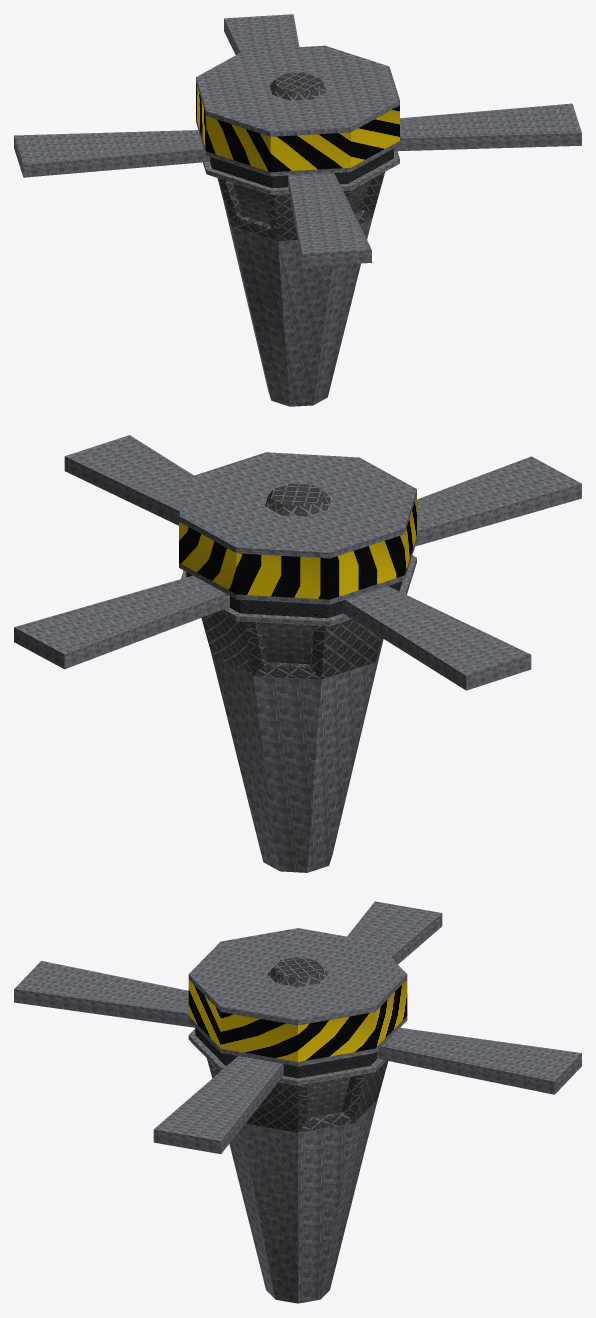
File: FanMedium.fbx
The picture shows the model from 3 angles, top to bottom: view 1: azimuth 30°, elevation 25°; view 2: azimuth 150°, elevation 25°; view 3: azimuth 270°, elevation 25°; orthographic projection. The views are drawn at different scales.
Parts seen in each view (by area): view 1: MediumFan, Blade_2.010, Blade.008; view 2: MediumFan, Blade.008, Blade_2.010; view 3: MediumFan, Blade.008, Blade_2.010.
Part boxes in pixels (<box>): MediumFan: <box>196,45,399,406</box>; Blade_2.010: <box>14,103,581,177</box>; Blade.008: <box>224,14,371,266</box>; MediumFan: <box>179,452,416,872</box>; Blade.008: <box>14,456,581,669</box>; Blade_2.010: <box>64,435,531,690</box>; MediumFan: <box>188,928,407,1303</box>; Blade.008: <box>14,961,581,1094</box>; Blade_2.010: <box>153,901,442,1154</box>.
Size of the model in its own units: 3891 by 2441 by 3896.
